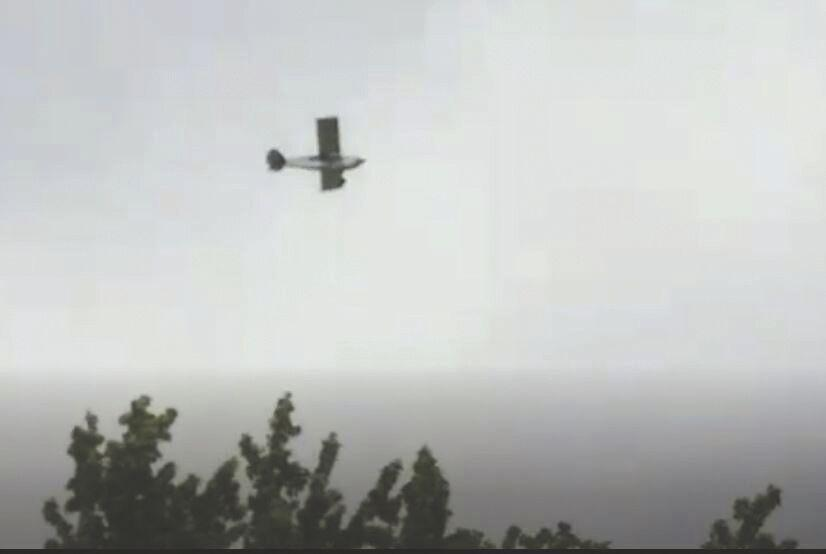plane: (263, 115, 366, 191)
